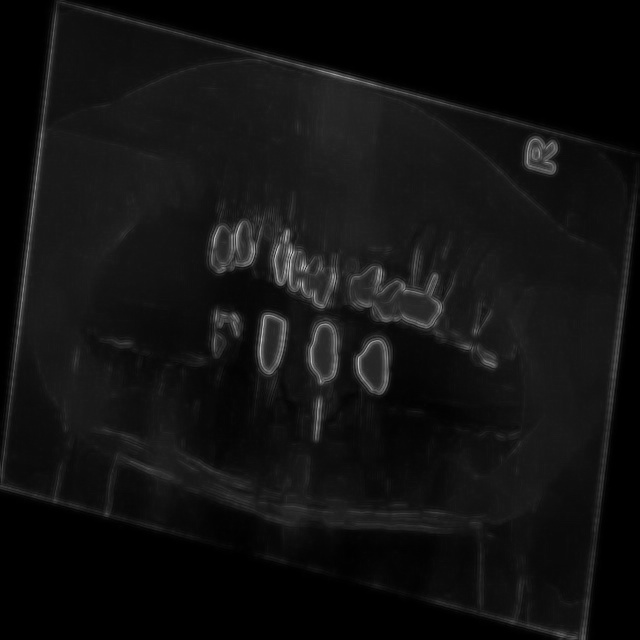Class 1- complete endodontic treatment: (400, 205, 452, 308)
cavity: (335, 319, 405, 504), (236, 296, 296, 462), (202, 146, 264, 275)
